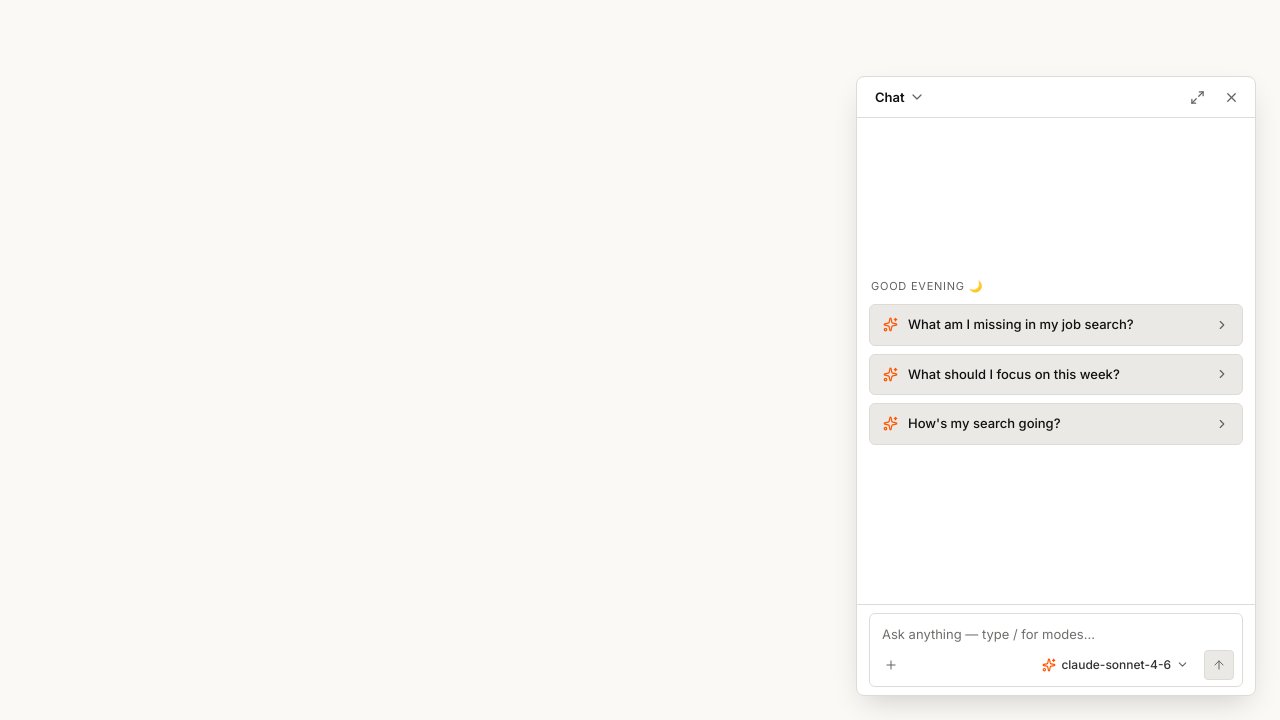
Scenario: ChatCard › a message typed while streaming is queued, then auto-sent once the reply is done
The image size is (1280, 720).
Type "first" into the text box named "Message".
click(1057, 634); type("first")  # box [880,620,1234,648]
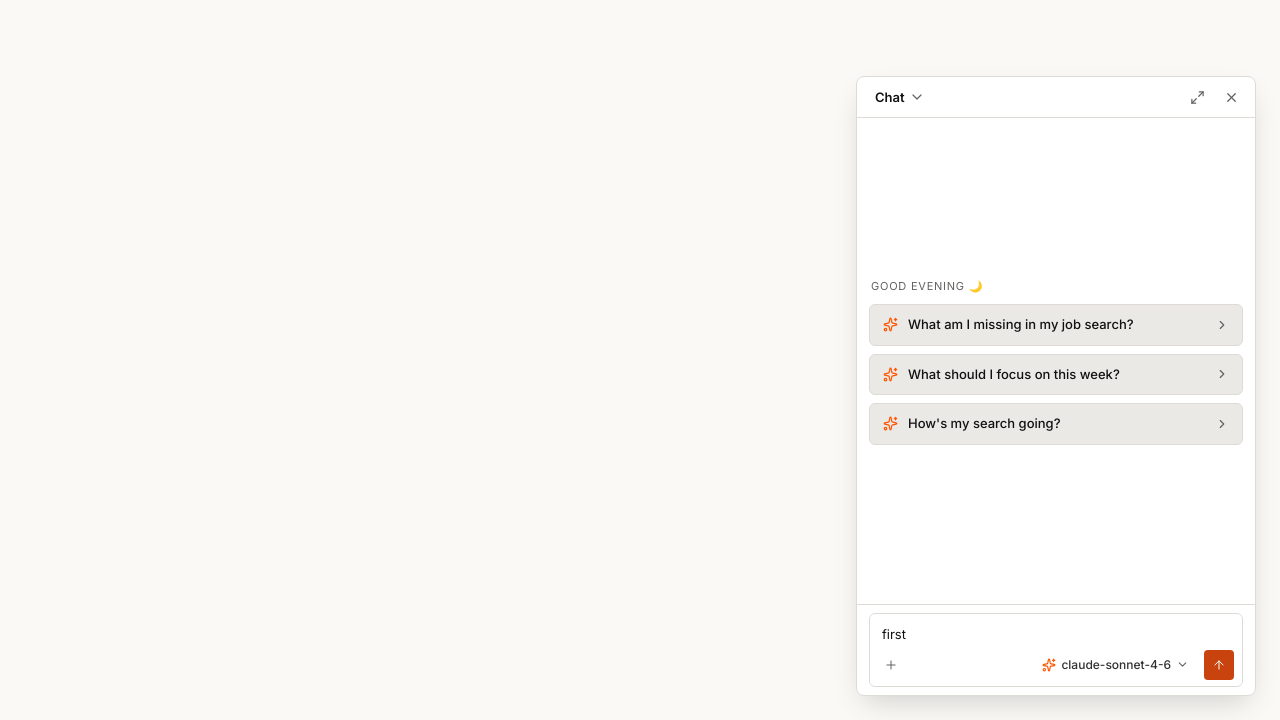
Press Enter in the text box named "Message", box [880,620,1234,648]
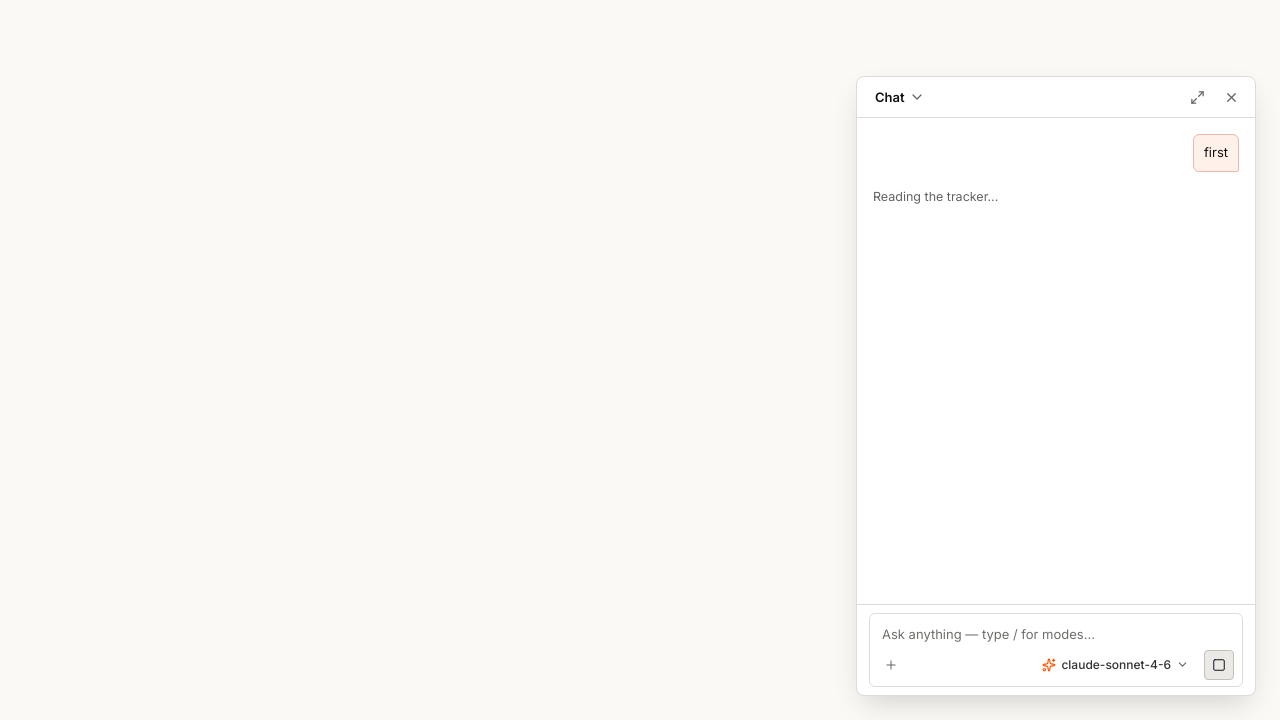
Type "second" into the text box named "Message".
click(1057, 634); type("second")  # box [880,620,1234,648]
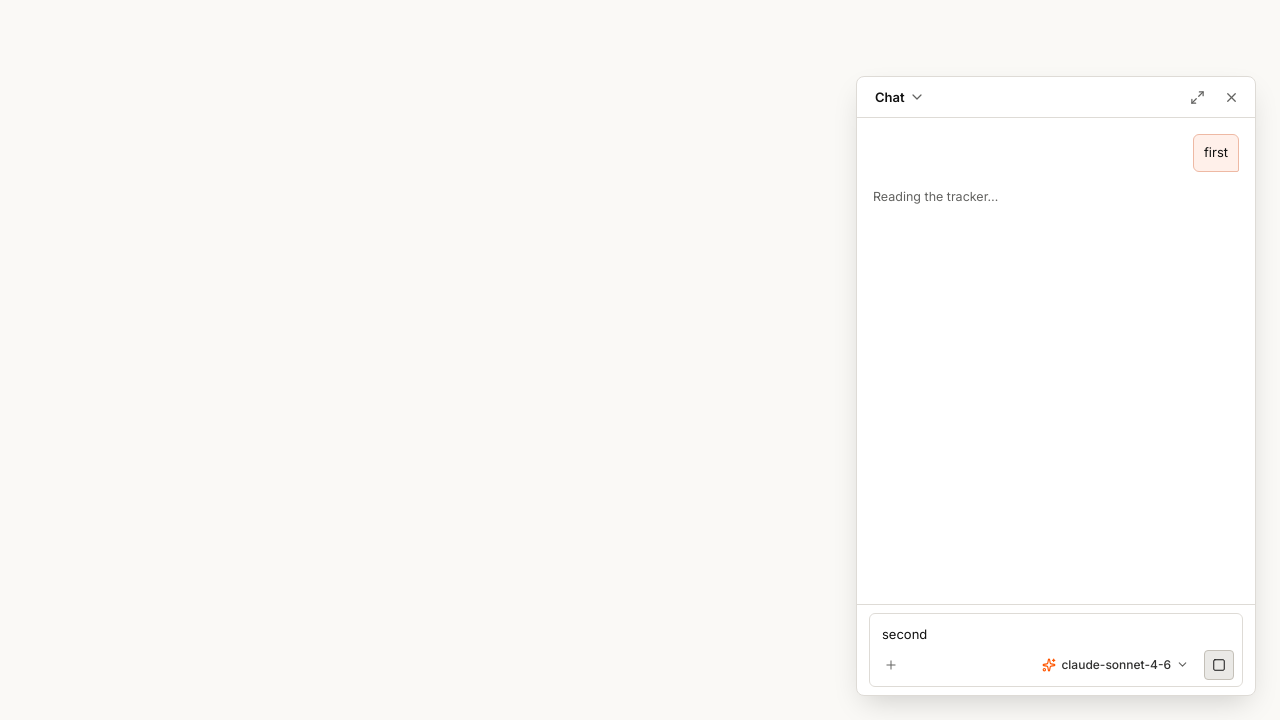
Press Enter in the text box named "Message", box [880,620,1234,648]
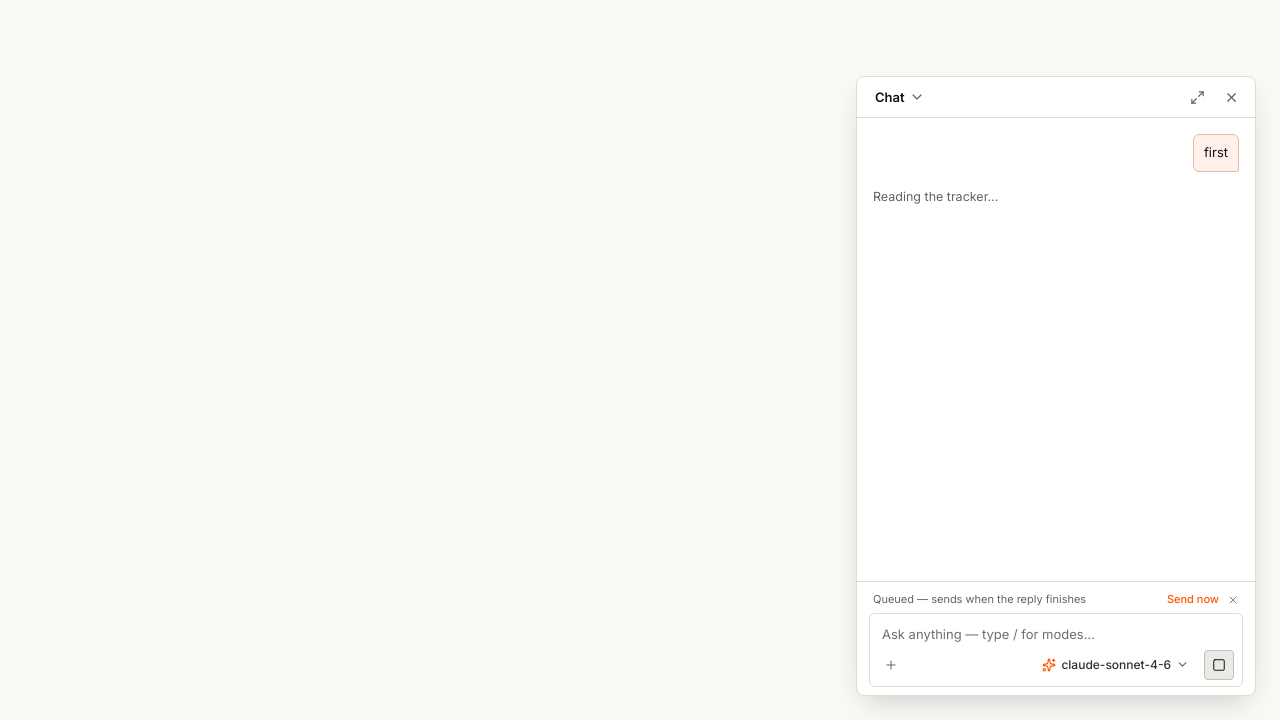
Expected: the text "Queued — sends when the reply finishes" is shown, [873,590,1086,609]
